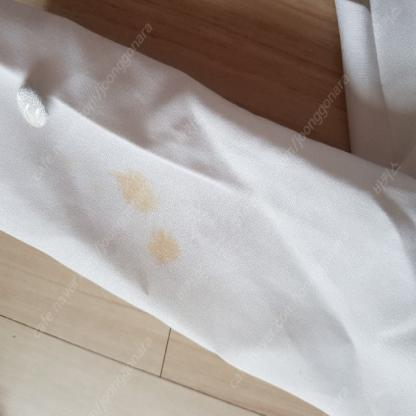kimchi: (109, 166, 154, 218), (148, 234, 179, 271)
